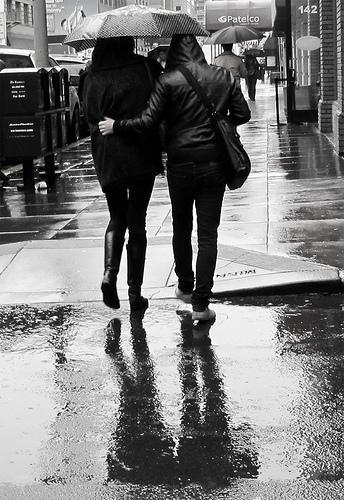car: (0, 46, 79, 142), (50, 52, 93, 92)
